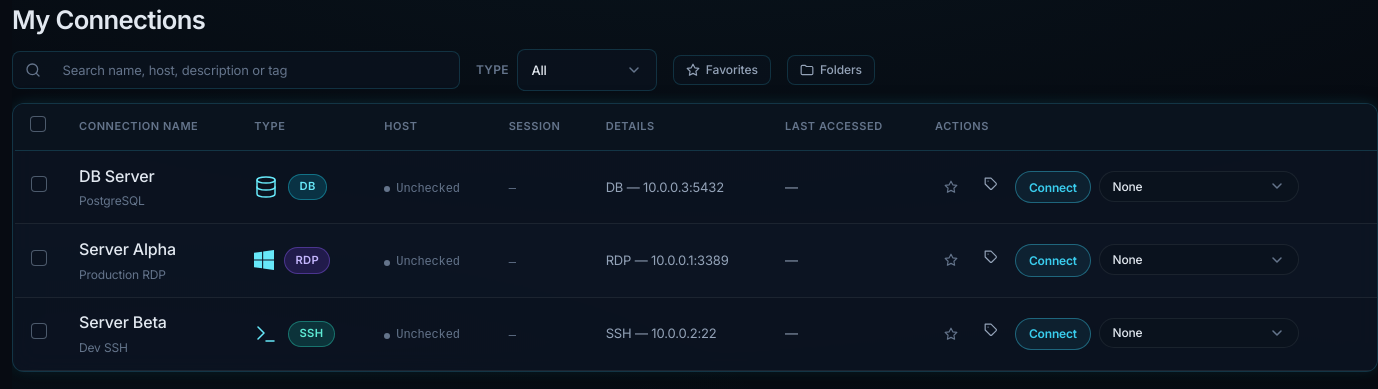
it: Dashboard › shows expired label in profile selector
The width and height of the screenshot is (1378, 389).
Expected: the text "Server Alpha" is shown, [79,239,176,259]
# Open profile selector
Click the button "None" in the row of "DB Server".
click(1199, 186)  # box [1099,171,1299,202]
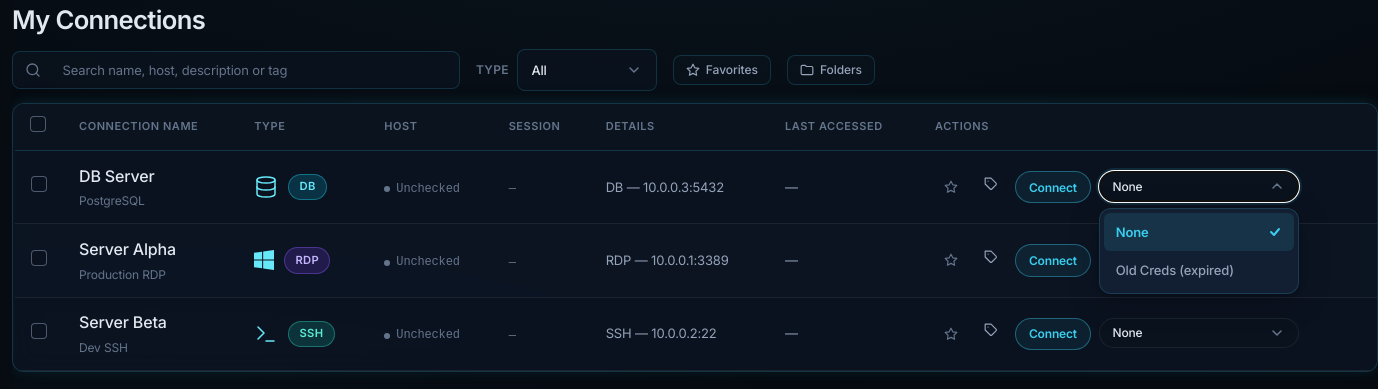
Expected: the option "Old Creds (expired)" is shown, [1116,262,1234,278]
